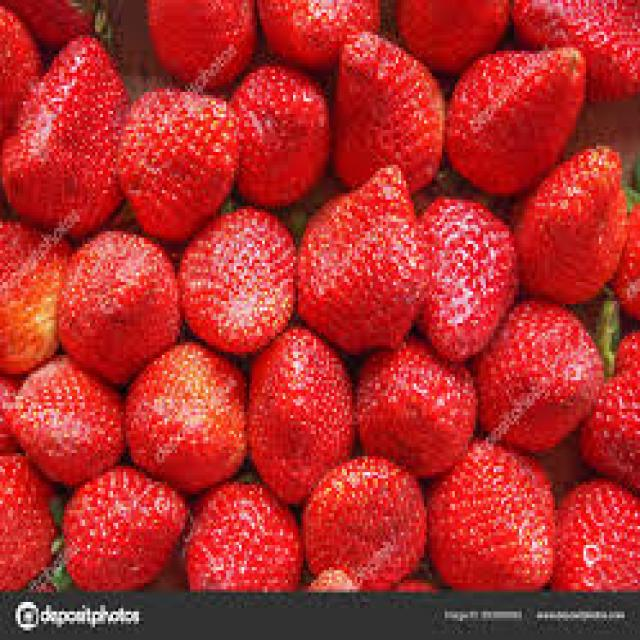strawberry: (296, 168, 426, 348), (118, 90, 234, 238), (56, 228, 169, 366), (337, 33, 444, 169), (448, 49, 586, 152), (462, 444, 556, 593), (59, 482, 188, 588), (139, 364, 244, 476), (508, 296, 603, 419), (359, 356, 470, 459), (430, 196, 521, 316)
